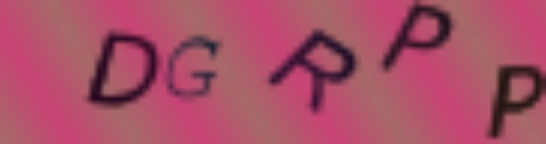D: (84, 30, 166, 110)
G: (163, 34, 220, 99)
P: (381, 1, 456, 77), (478, 60, 546, 142)
R: (268, 26, 363, 114)
